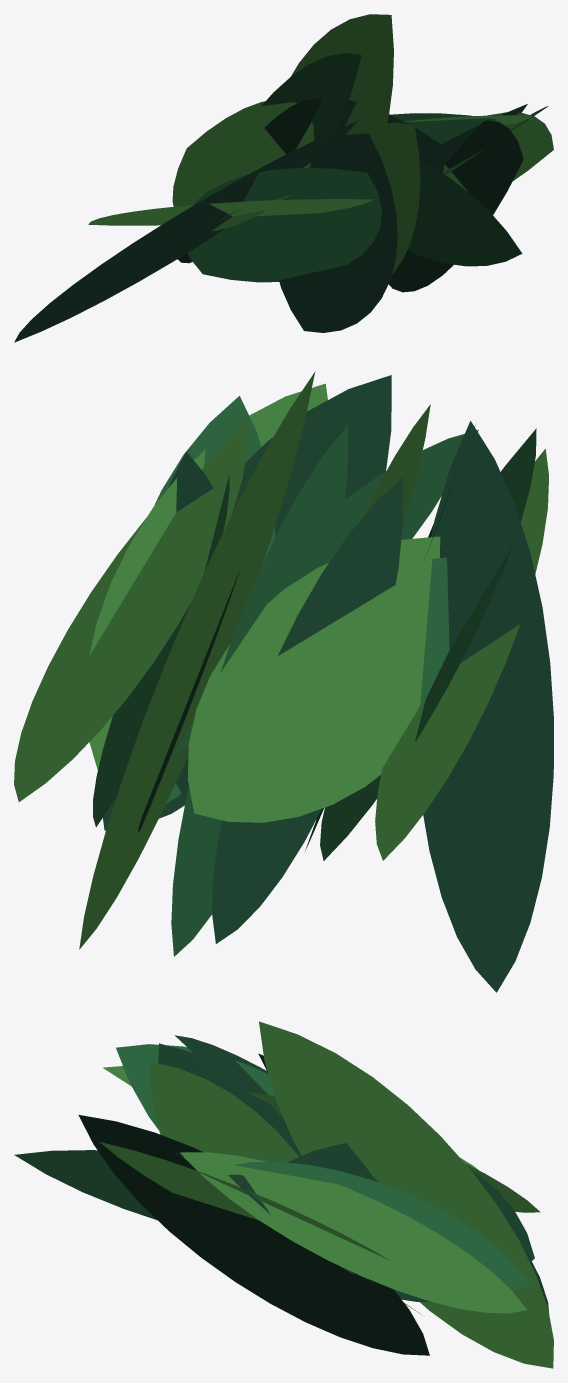
File: undergrowth.glb
3 views of the same model, one above another, from view 1: azimuth 30°, elevation 25°; view 2: azimuth 150°, elevation 25°; view 3: azimuth 270°, elevation 25° (orthographic). The views are drawn at different scales.
Parts seen in each view (by area): view 1: ground-vegetation-cluster; view 2: ground-vegetation-cluster; view 3: ground-vegetation-cluster.
Boxes of the visible parts, bbox=[...] form: ground-vegetation-cluster: bbox=[14, 14, 553, 342]; ground-vegetation-cluster: bbox=[14, 371, 553, 992]; ground-vegetation-cluster: bbox=[14, 1021, 553, 1368].
Size of the model in its own units: 1.29 by 1.07 by 1.58.
